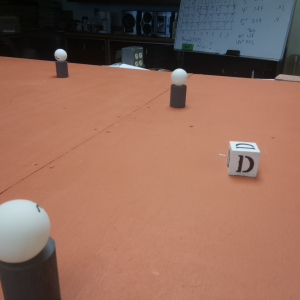obstacle: (1, 195, 62, 299), (170, 68, 187, 111), (53, 49, 69, 78)
